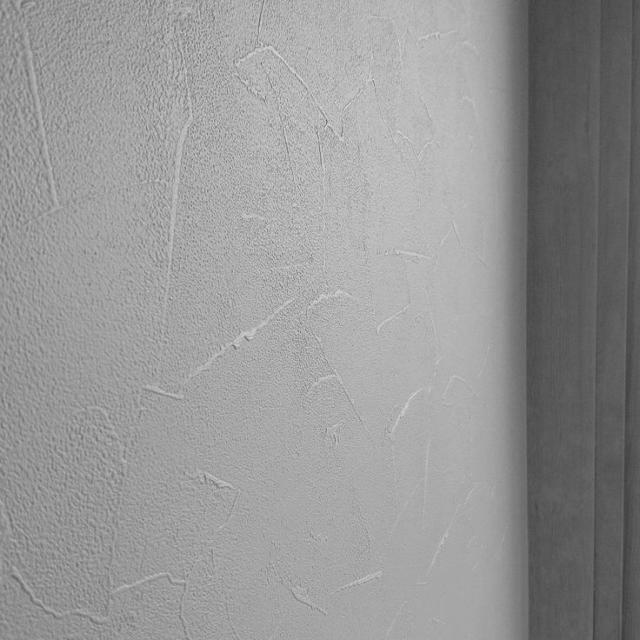trowels marks: (0, 0, 495, 640)
